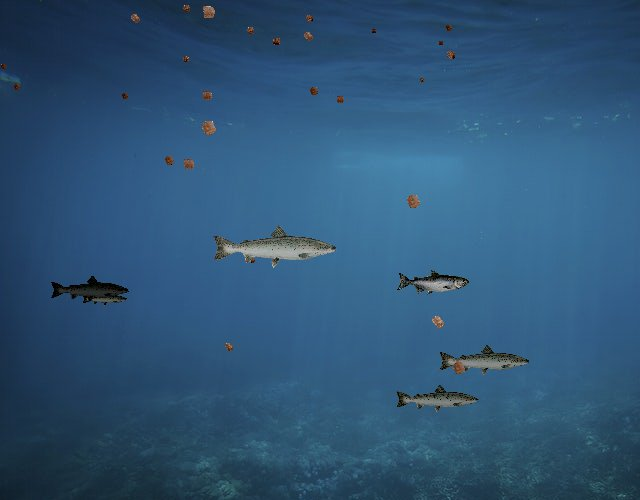Fish: (210, 223, 339, 269), (438, 344, 532, 377), (394, 383, 480, 414), (49, 275, 130, 304), (396, 270, 469, 296), (81, 291, 128, 308)
Pellet: (194, 112, 224, 143), (424, 309, 451, 336), (446, 355, 472, 381), (177, 153, 200, 176), (178, 52, 193, 67), (118, 89, 132, 103)
